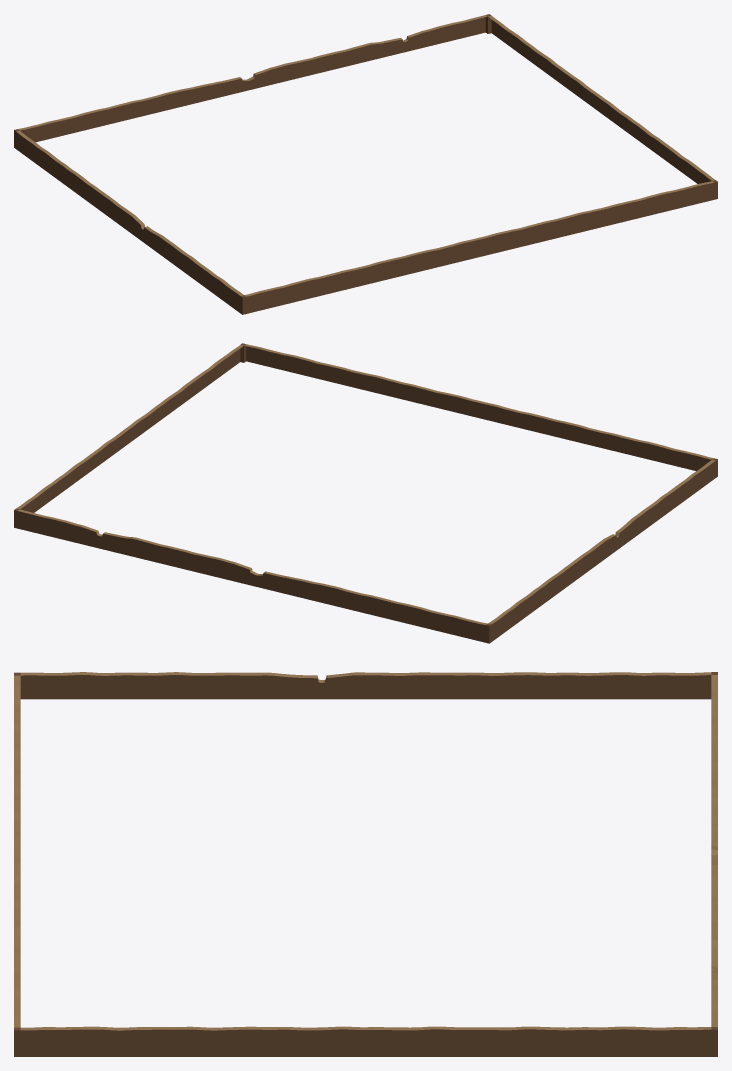
3 views of the same model, one above another, from view 1: azimuth 30°, elevation 25°; view 2: azimuth 150°, elevation 25°; view 3: azimuth 270°, elevation 25° (orthographic). The views are drawn at different scales.
Bounding box in the file's own units: 36.58 × 1.32 × 30.45.
